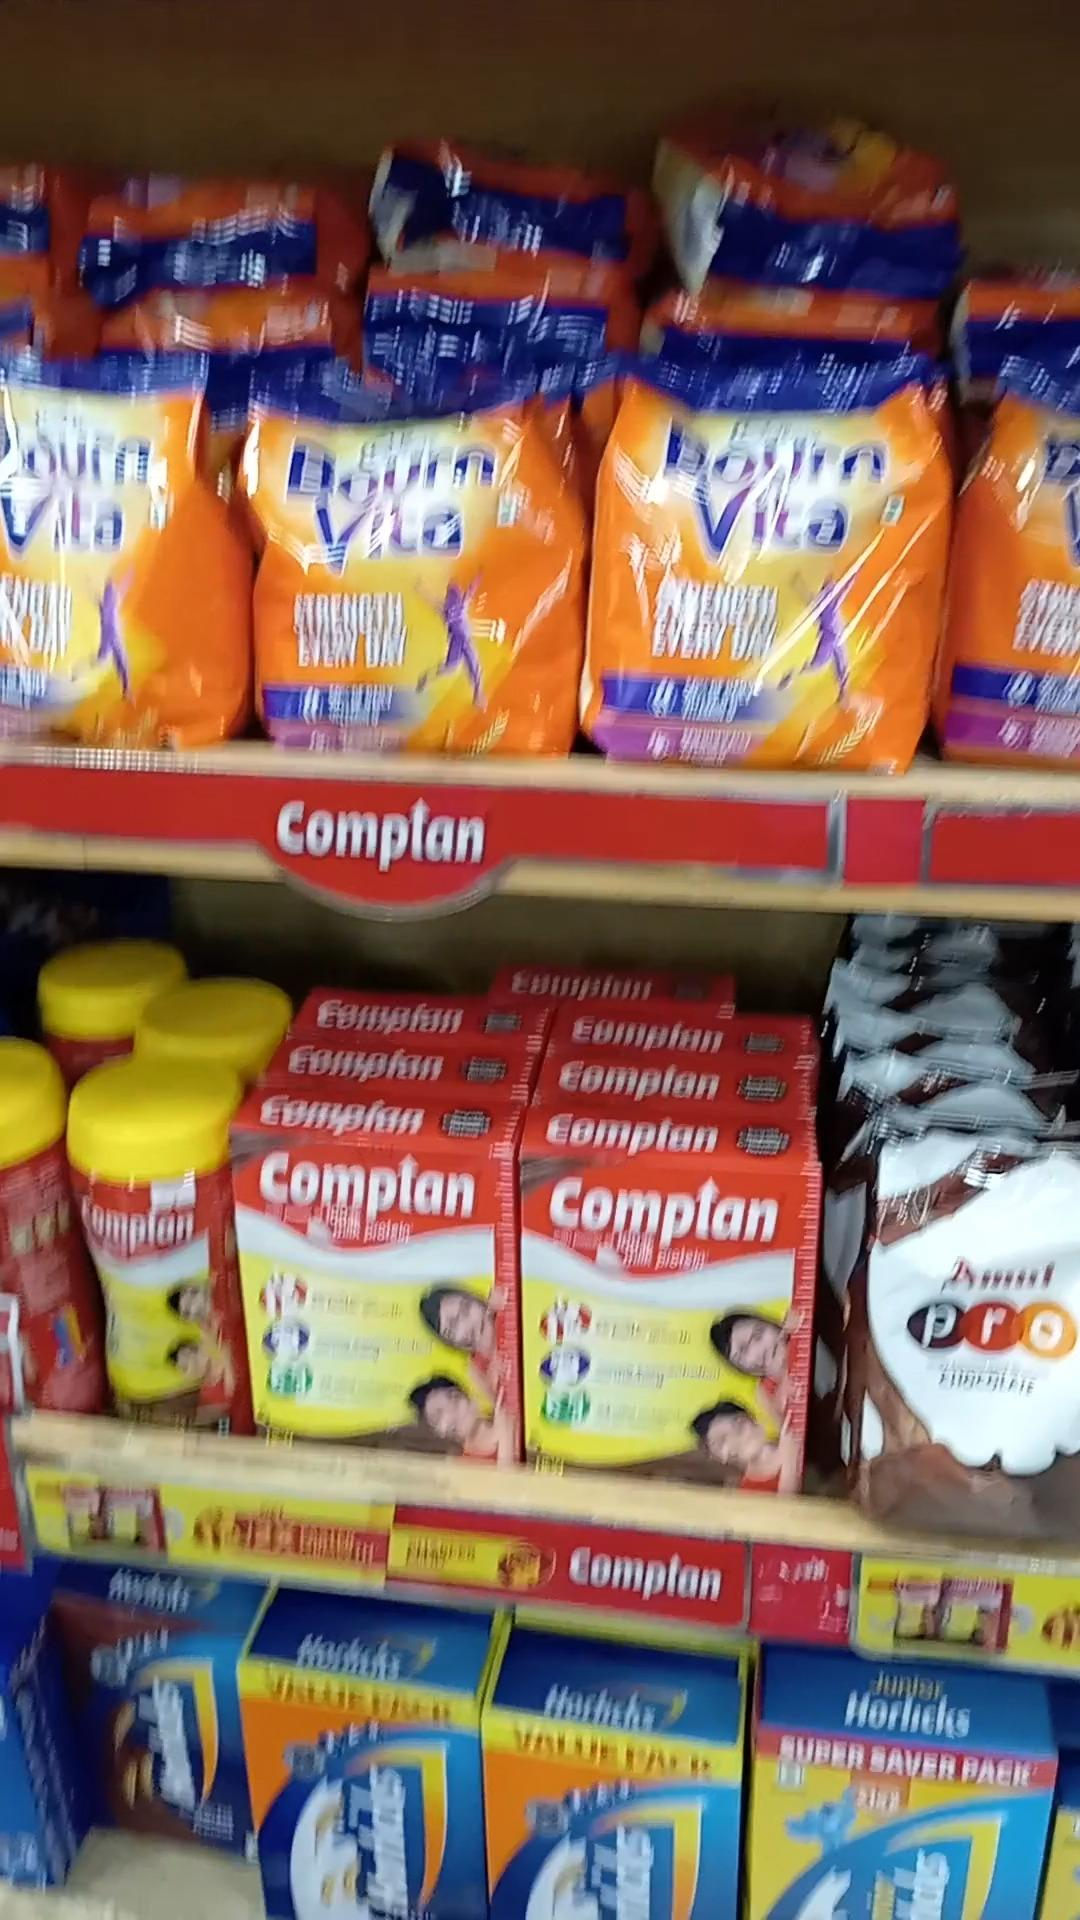BOURN_VITA_500_G_POUCH: (596, 310, 913, 748), (253, 330, 580, 748)
COMPLAN_CHOCOLATE_500_GMS_JAR: (74, 1073, 232, 1429)
COMPLAN_CHOCOLATE_500_GMS_PACK: (533, 1155, 811, 1498), (249, 1126, 514, 1462)
